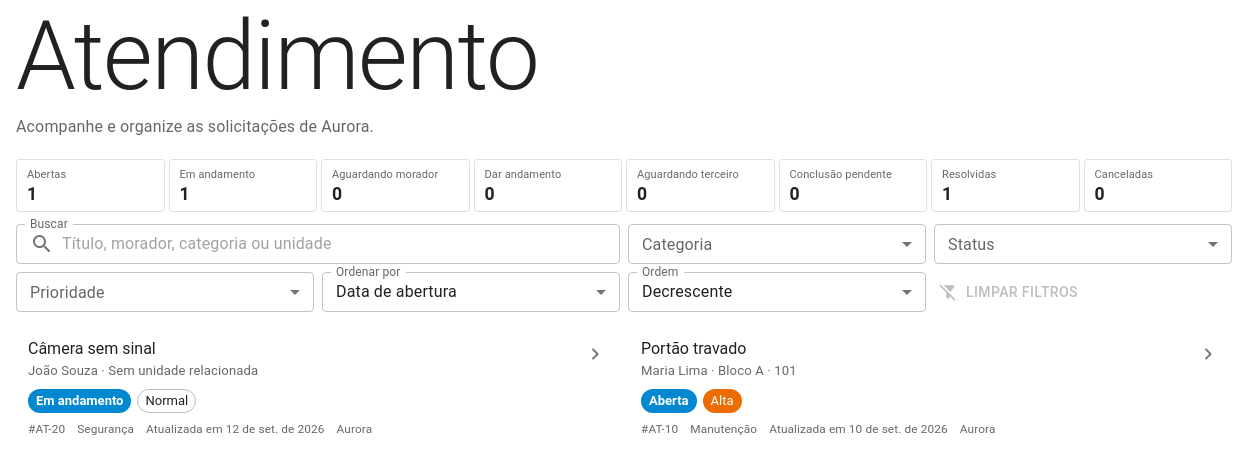
Test case: ManagementRequestsPage capabilities › uses a summary indicator as a status filter
The width and height of the screenshot is (1249, 452).
Expected: the heading "Portão travado" is shown, [641,339,746,358]
Step 1. Click the button with aria-label "Filtrar por Resolvidas" → (1005,185), box [931,159,1080,212]
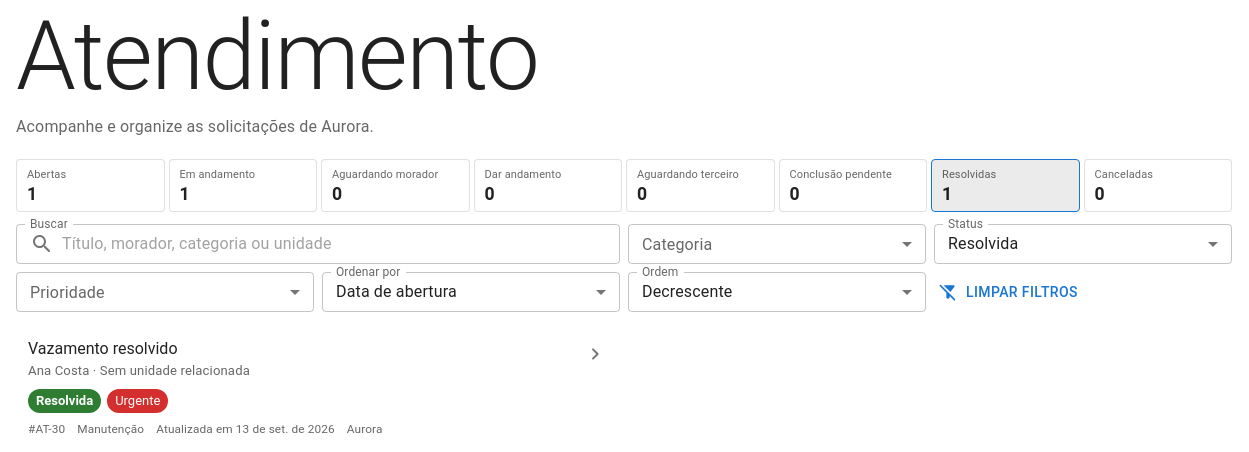
Expected: the heading "Vazamento resolvido" is shown, [28,339,178,358]
Expected: the button "Portão travado" is gone
